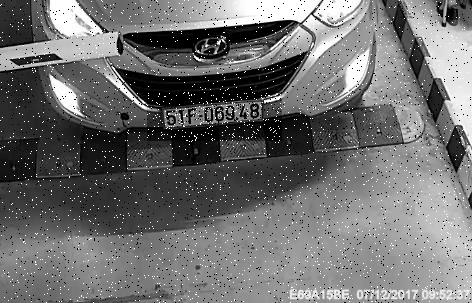License-plate: (148, 93, 283, 142)
